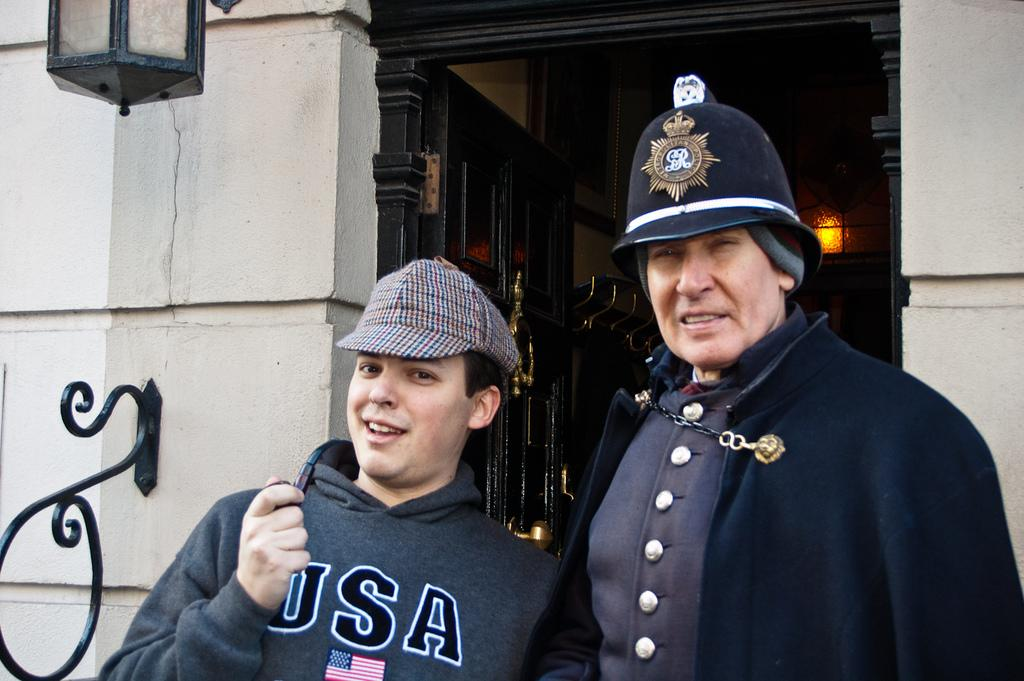Hat: (610, 99, 833, 279)
